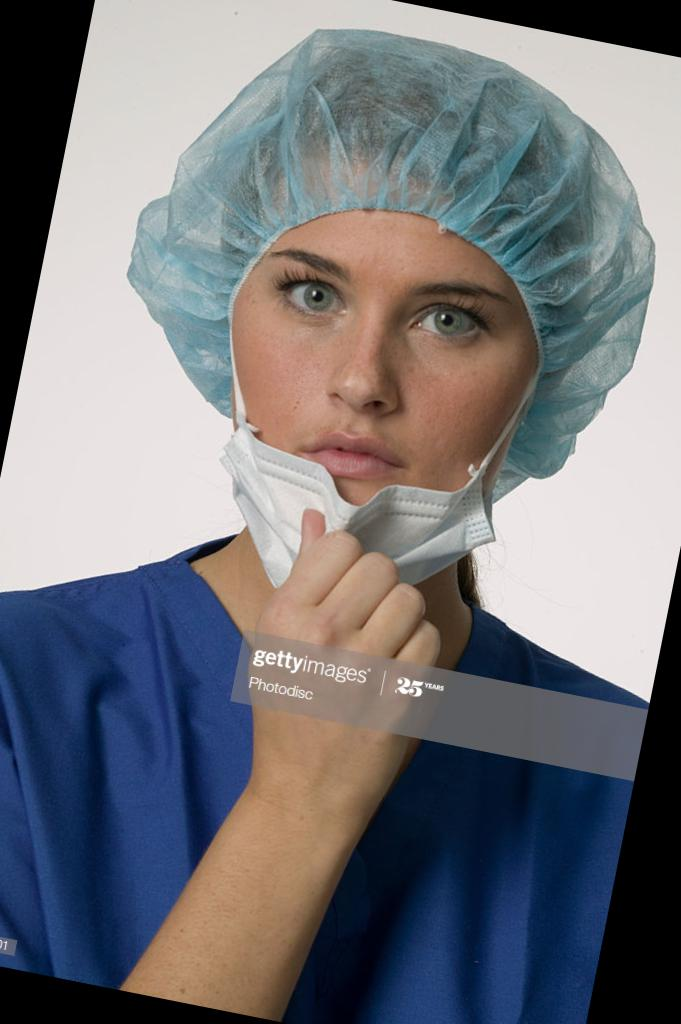mask_weared_incorrect: (217, 243, 536, 583)
